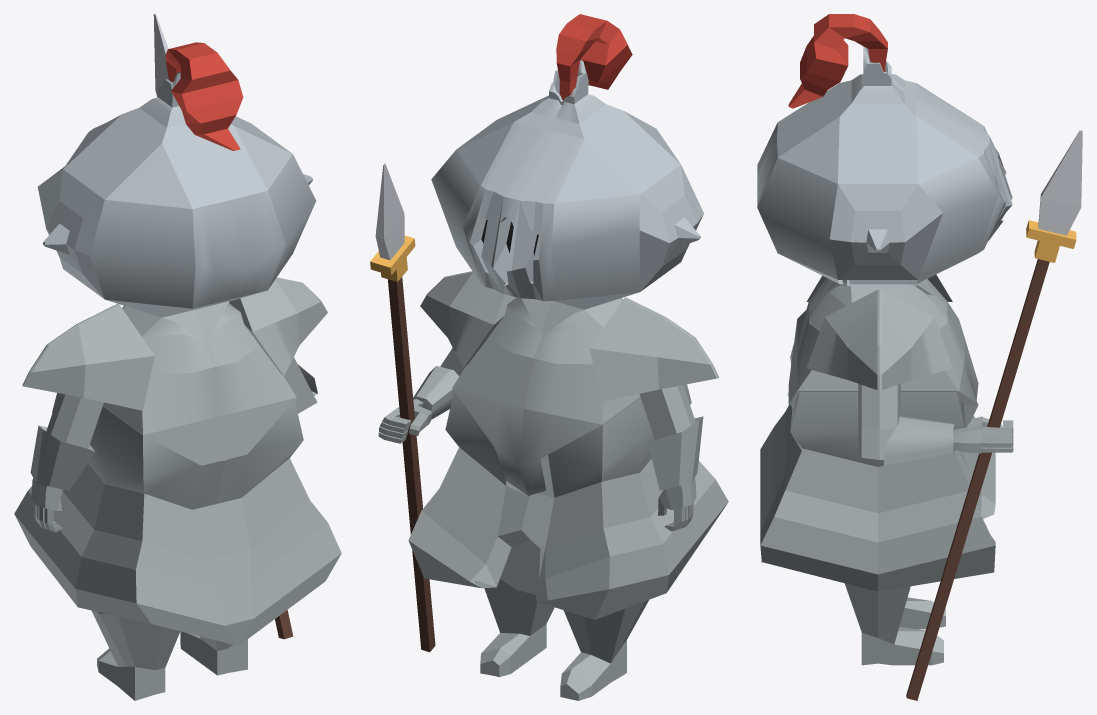
Rendered from enemy1.fbx.
3 renders of one model, left to right at view 1: azimuth 30°, elevation 25°; view 2: azimuth 150°, elevation 25°; view 3: azimuth 270°, elevation 25°, orthographic. The views are drawn at different scales.
Visible parts, largest first — view 1: pCube2, pCube1, pasted__pCube3, pCube3, pCube5, pCube4; view 2: pCube2, pCube1, pasted__pCube3, pCube3, pCube4, pCube5; view 3: pCube2, pCube1, pCube3, pCube4, pCube5.
Part boxes in pixels (x1,y1,x2,y2): pCube2: (14,301,341,700); pCube1: (37,72,316,317); pasted__pCube3: (22,304,154,532); pCube3: (229,277,327,413); pCube5: (165,42,243,150); pCube4: (153,14,293,639); pCube2: (408,297,728,700); pCube1: (431,60,703,309); pasted__pCube3: (589,297,718,531); pCube3: (378,271,515,443); pCube4: (370,163,435,652); pCube5: (556,14,632,100); pCube2: (760,277,995,665); pCube1: (757,46,1012,284); pCube3: (806,289,1013,465); pCube4: (906,130,1082,700); pCube5: (788,14,887,108).
Bounding box in the file's own units: 14.58 × 29.48 × 14.03.
Materials: 4 (4 with a texture image).
